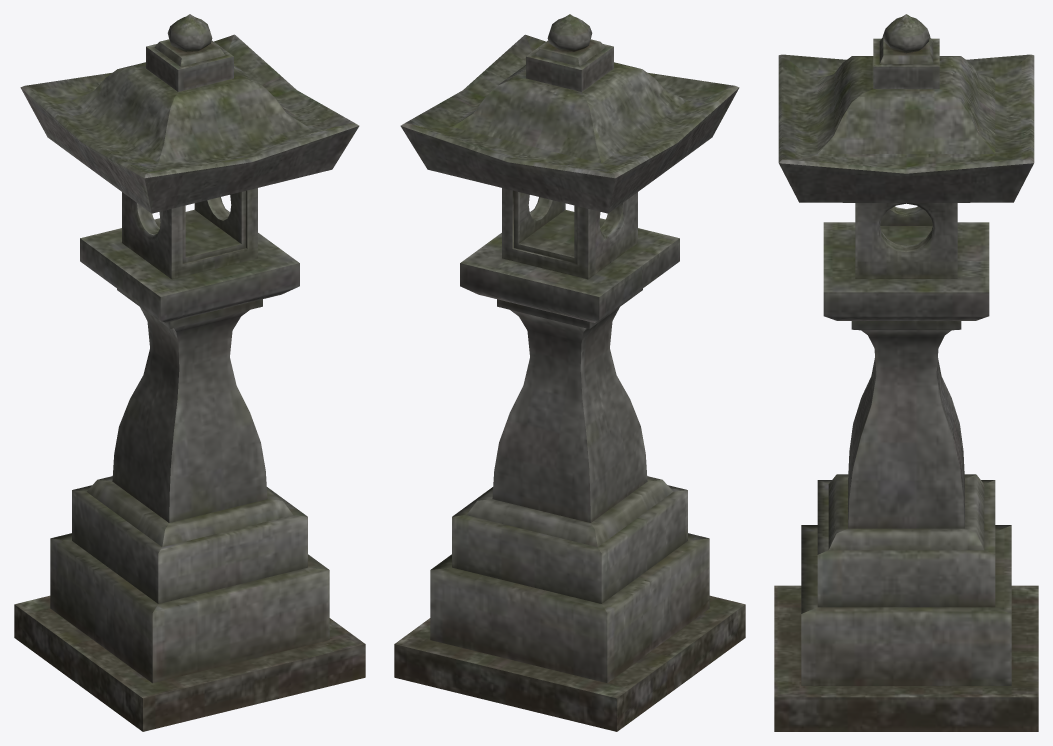
Rendered from lantern_old.glb.
3 renders of one model, left to right at view 1: azimuth 30°, elevation 25°; view 2: azimuth 150°, elevation 25°; view 3: azimuth 270°, elevation 25°, orthographic. The views are drawn at different scales.
Visible parts, largest first — view 1: body; view 2: body; view 3: body.
Part boxes in pixels (x1,y1,x2,y2): body: (14, 14, 365, 731); body: (394, 14, 745, 731); body: (774, 14, 1038, 731).
Size of the model in its own units: 0.7238 by 2 by 0.7238.
Materials: 1 (1 with a texture image).
